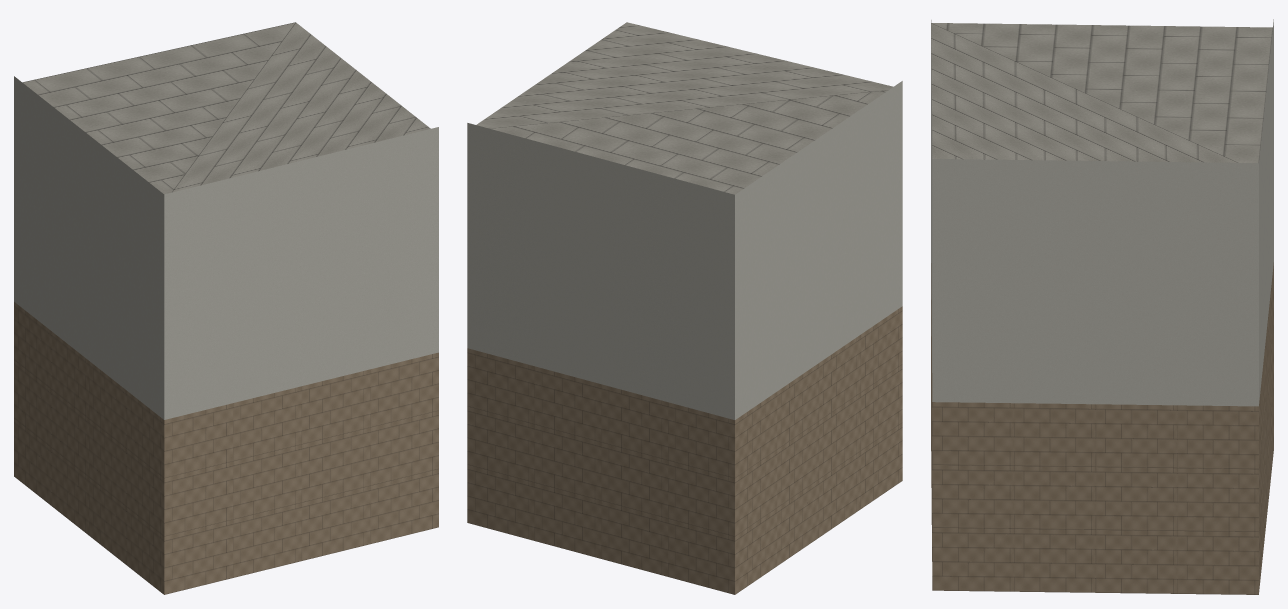
The model's file is bld_c10_8_505.gltf.
3 renders of one model, left to right at view 1: azimuth 30°, elevation 25°; view 2: azimuth 150°, elevation 25°; view 3: azimuth 270°, elevation 25°, orthographic. The views are drawn at different scales.
Visible parts, largest first — view 1: bld_c10_8_505; view 2: bld_c10_8_505; view 3: bld_c10_8_505.
Boxes of the visible parts, left/top/right/bottom form: bld_c10_8_505: left=14, top=22, right=438, bottom=594; bld_c10_8_505: left=467, top=22, right=902, bottom=594; bld_c10_8_505: left=931, top=19, right=1273, bottom=594.
Size of the model in its own units: 8.65 by 11.68 by 8.4.
Materials: 4 (4 with a texture image).
